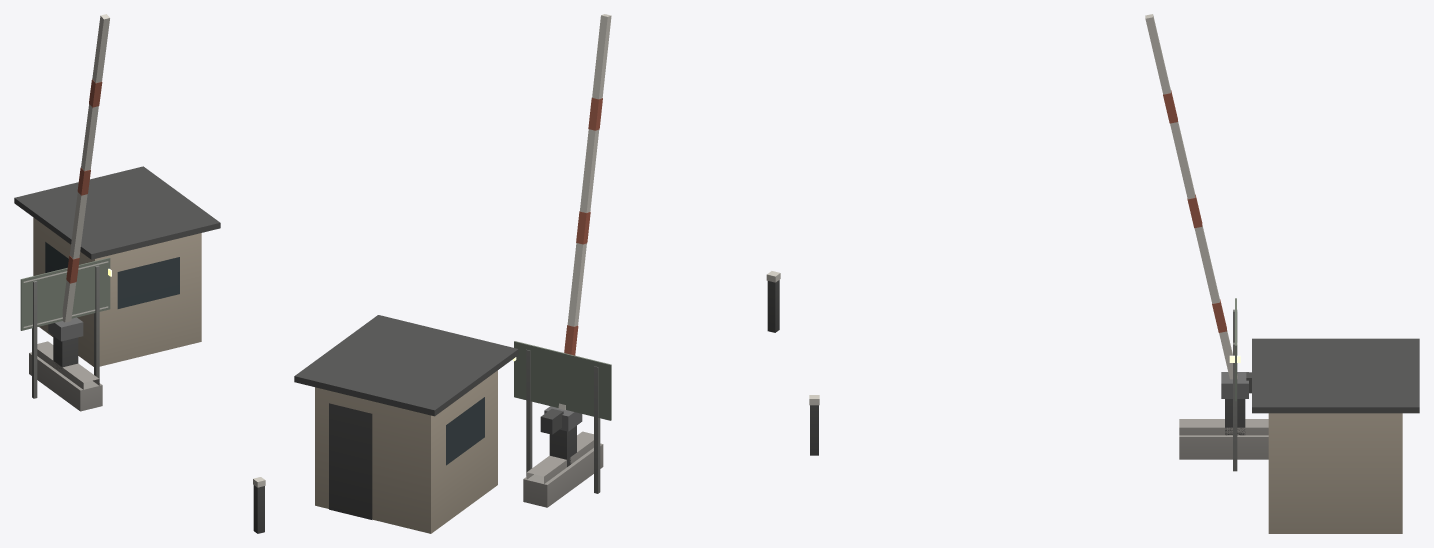
Rendered from vesper-roadkit.glb.
3 renders of one model, left to right at view 1: azimuth 30°, elevation 25°; view 2: azimuth 150°, elevation 25°; view 3: azimuth 270°, elevation 25°, orthographic. The views are drawn at different scales.
Parts seen in each view (by area): view 1: kit_gate, kit_sign, kit_block; view 2: kit_gate, kit_sign, kit_block; view 3: kit_gate, kit_block, kit_sign.
Part boxes in pixels (x1,y1,x2,y2): kit_gate: [14, 14, 265, 533]; kit_sign: [20, 257, 110, 398]; kit_block: [29, 341, 102, 411]; kit_gate: [294, 14, 780, 533]; kit_sign: [514, 341, 611, 493]; kit_block: [523, 431, 603, 507]; kit_gate: [809, 14, 1419, 533]; kit_block: [1179, 419, 1268, 459]; kit_sign: [1233, 298, 1237, 471].
Size of the model in its own units: 4.65 by 8.65 by 10.92.
